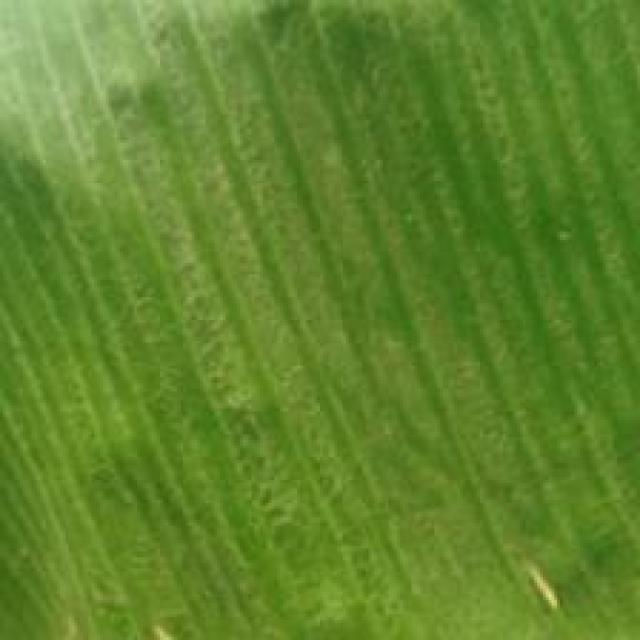Black_leaf_spot: (0, 8, 640, 638)
